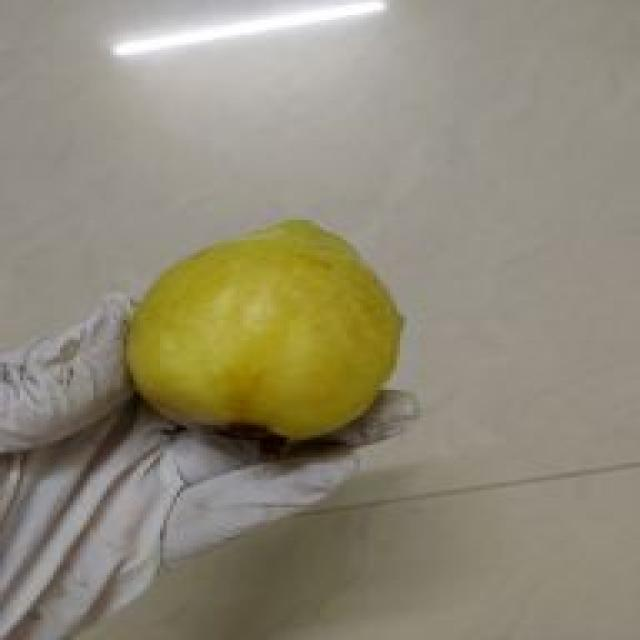Good_Guava: (123, 220, 407, 445)
